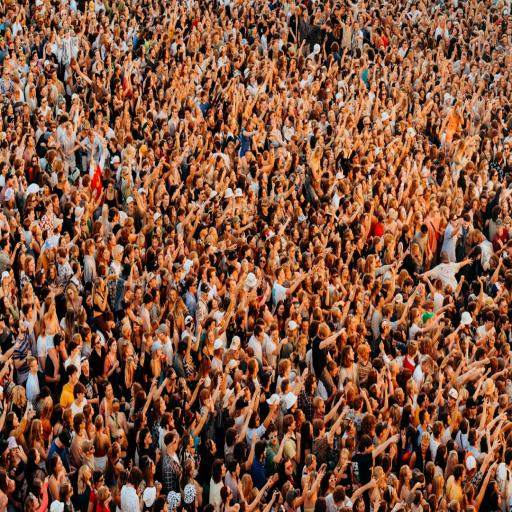face: (292, 400, 326, 424), (444, 366, 454, 381), (106, 384, 114, 400), (284, 461, 292, 476), (7, 478, 15, 493), (234, 369, 243, 382), (377, 478, 386, 491), (495, 488, 501, 506), (56, 457, 63, 472), (502, 201, 509, 216), (227, 280, 235, 293), (333, 312, 341, 325), (421, 440, 429, 453), (348, 422, 356, 435), (79, 418, 85, 435), (356, 500, 365, 511), (278, 270, 285, 284), (170, 289, 177, 303), (146, 336, 153, 350), (207, 330, 214, 344), (363, 294, 370, 308), (94, 336, 101, 350), (77, 336, 83, 352), (56, 341, 64, 353), (14, 211, 20, 227), (269, 432, 277, 444), (329, 475, 336, 488), (293, 230, 300, 243), (418, 283, 425, 296), (210, 273, 217, 286), (135, 288, 142, 301), (30, 361, 37, 374), (448, 396, 455, 409), (28, 259, 35, 272), (398, 389, 404, 404), (504, 143, 510, 158), (358, 352, 366, 363), (469, 405, 477, 416), (502, 320, 510, 331), (168, 374, 176, 385), (256, 331, 264, 342), (340, 453, 347, 465), (310, 456, 316, 470), (271, 329, 278, 341), (163, 194, 169, 208), (98, 280, 105, 292), (400, 208, 407, 220), (492, 482, 499, 494), (488, 335, 495, 347), (105, 493, 111, 507), (476, 175, 482, 188), (372, 257, 378, 270), (158, 254, 164, 267), (145, 432, 151, 445), (103, 248, 109, 261), (64, 182, 70, 195), (168, 417, 174, 430), (254, 414, 260, 427), (302, 321, 309, 332), (19, 322, 26, 333), (190, 284, 197, 295), (262, 204, 269, 215), (127, 345, 134, 356), (378, 182, 384, 194), (486, 321, 494, 330), (378, 296, 384, 308), (357, 302, 363, 314), (13, 416, 19, 428), (431, 167, 437, 179), (152, 237, 158, 249), (290, 419, 296, 431), (134, 321, 140, 333), (229, 395, 235, 407), (199, 190, 205, 202), (278, 304, 284, 316), (384, 323, 390, 335), (128, 201, 134, 213), (66, 123, 72, 135), (349, 348, 354, 362), (108, 236, 115, 246), (2, 276, 9, 286), (227, 489, 232, 503), (81, 221, 86, 235), (111, 342, 117, 353), (212, 300, 218, 311), (49, 268, 55, 279), (346, 241, 352, 252), (484, 140, 490, 151), (201, 269, 206, 282), (300, 411, 305, 424), (404, 285, 412, 293), (491, 172, 498, 181), (277, 183, 283, 193), (481, 198, 487, 208), (125, 329, 131, 339), (88, 133, 94, 143), (260, 100, 266, 110), (312, 380, 317, 392), (10, 448, 18, 455), (211, 444, 216, 455), (34, 34, 39, 45), (463, 221, 469, 230), (172, 108, 178, 117), (156, 349, 162, 358), (36, 451, 40, 464), (151, 462, 155, 475), (28, 136, 33, 146), (320, 427, 325, 437), (0, 320, 5, 330), (425, 413, 430, 423), (408, 468, 412, 480), (221, 465, 225, 477), (321, 113, 326, 122), (457, 91, 462, 100), (319, 260, 324, 269), (99, 226, 103, 237), (363, 325, 367, 336), (69, 412, 73, 423), (354, 21, 358, 31), (245, 353, 249, 363), (461, 471, 465, 481), (156, 292, 159, 303), (422, 366, 427, 372), (131, 388, 134, 397)
